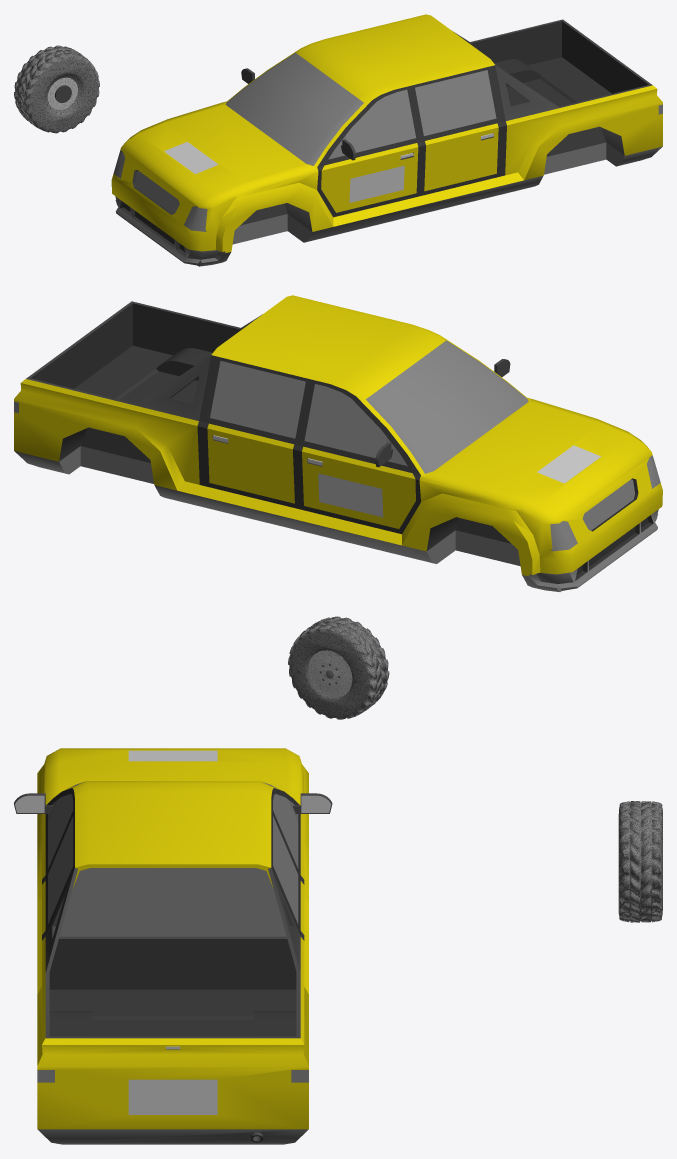
Rendered from Vehicle3.fbx.
The picture shows the model from 3 angles, top to bottom: view 1: azimuth 30°, elevation 25°; view 2: azimuth 150°, elevation 25°; view 3: azimuth 270°, elevation 25°; orthographic projection. The views are drawn at different scales.
Visible parts, largest first — view 1: Vehicle3, roda; view 2: Vehicle3, roda; view 3: Vehicle3, roda.
Part boxes in pixels (left/top/right/bottom): Vehicle3: left=111, top=14, right=662, bottom=266; roda: left=14, top=45, right=99, bottom=133; Vehicle3: left=14, top=295, right=662, bottom=591; roda: left=288, top=616, right=389, bottom=719; Vehicle3: left=14, top=748, right=332, bottom=1144; roda: left=618, top=801, right=662, bottom=922.
Size of the model in its own units: 543 by 172 by 463.
